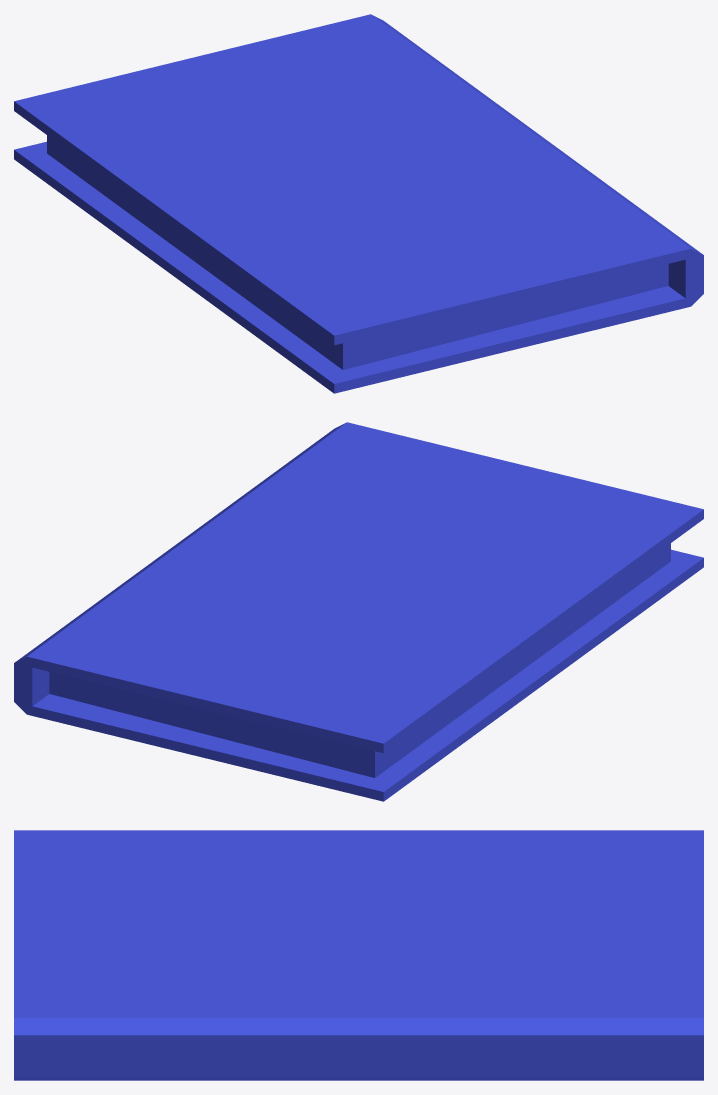
Rendered from BookConflag.fbx.
3 renders of one model, top to bottom at view 1: azimuth 30°, elevation 25°; view 2: azimuth 150°, elevation 25°; view 3: azimuth 270°, elevation 25°, orthographic. The views are drawn at different scales.
Visible parts, largest first — view 1: Book1; view 2: Book1; view 3: Book1.
Part boxes in pixels (left/top/right/bottom): Book1: left=14, top=14, right=703, bottom=393; Book1: left=14, top=422, right=703, bottom=801; Book1: left=14, top=830, right=703, bottom=1080.
Size of the model in its own units: 200 by 30 by 300.
